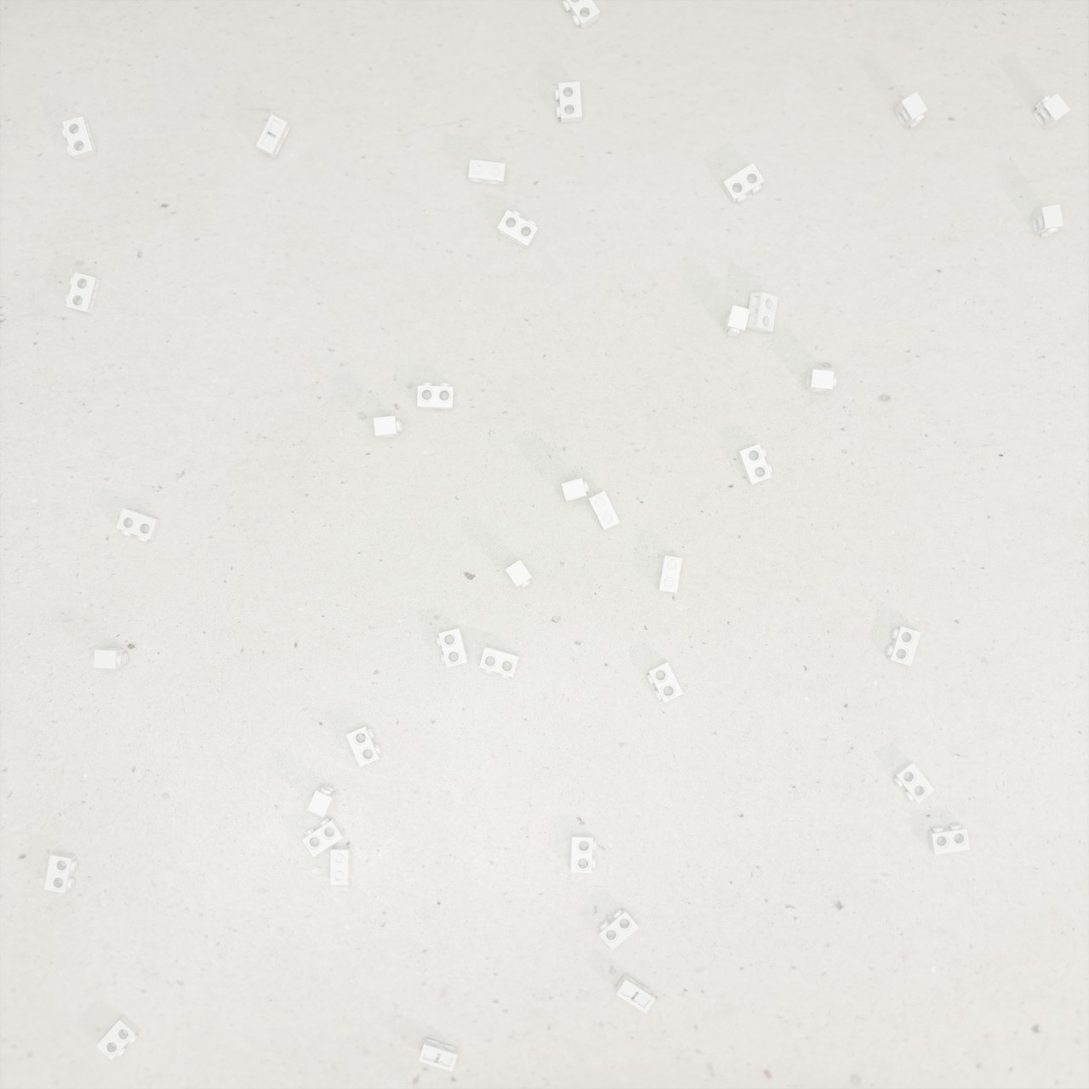lego: (96, 1015, 140, 1060), (893, 760, 935, 803), (598, 907, 639, 951), (721, 163, 764, 203), (302, 817, 345, 857), (615, 974, 655, 1014), (497, 210, 538, 249), (256, 114, 291, 159), (647, 661, 684, 703), (345, 725, 382, 767), (62, 116, 97, 160), (116, 508, 161, 542), (65, 272, 101, 314), (737, 444, 773, 485), (886, 625, 921, 666), (44, 851, 78, 893), (1032, 93, 1070, 130), (418, 1038, 459, 1072), (745, 292, 778, 332), (479, 646, 519, 679), (436, 627, 468, 668), (928, 824, 970, 855), (893, 92, 928, 129), (588, 491, 620, 530), (562, 0, 600, 30), (555, 81, 582, 123), (1031, 204, 1064, 237), (570, 834, 596, 873), (417, 382, 454, 409), (307, 784, 337, 817), (468, 160, 506, 186), (658, 555, 682, 593), (723, 305, 750, 337), (330, 846, 351, 885), (505, 559, 532, 588), (93, 647, 128, 669), (805, 369, 837, 393), (561, 478, 589, 502), (373, 416, 403, 438)
